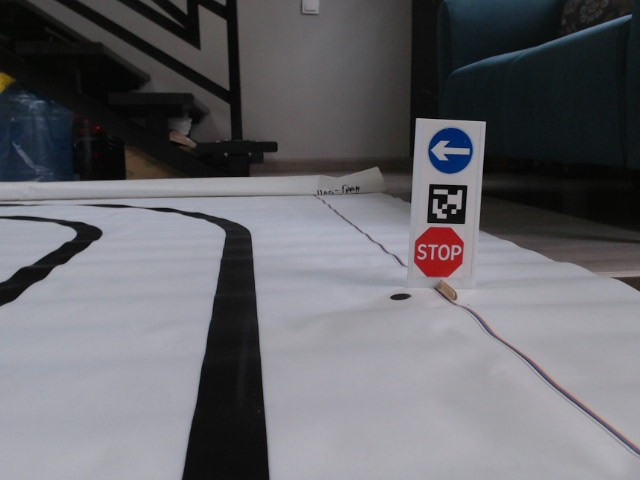Stop: (412, 223, 466, 277)
